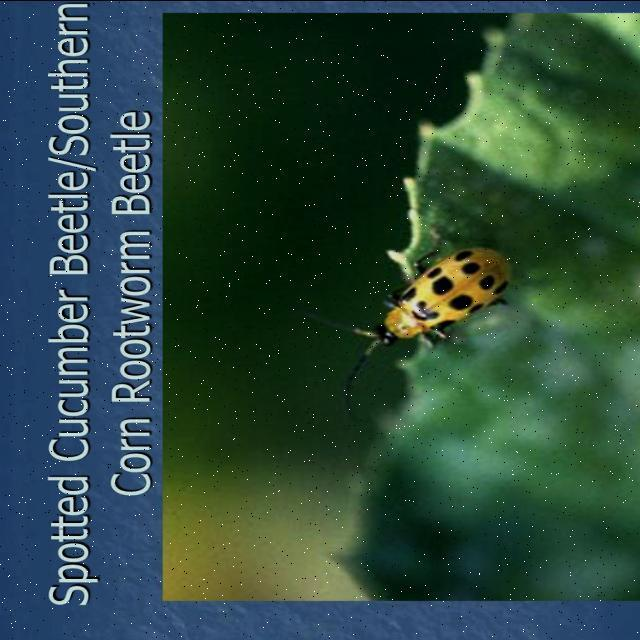gusano_verde: (300, 245, 510, 419)
